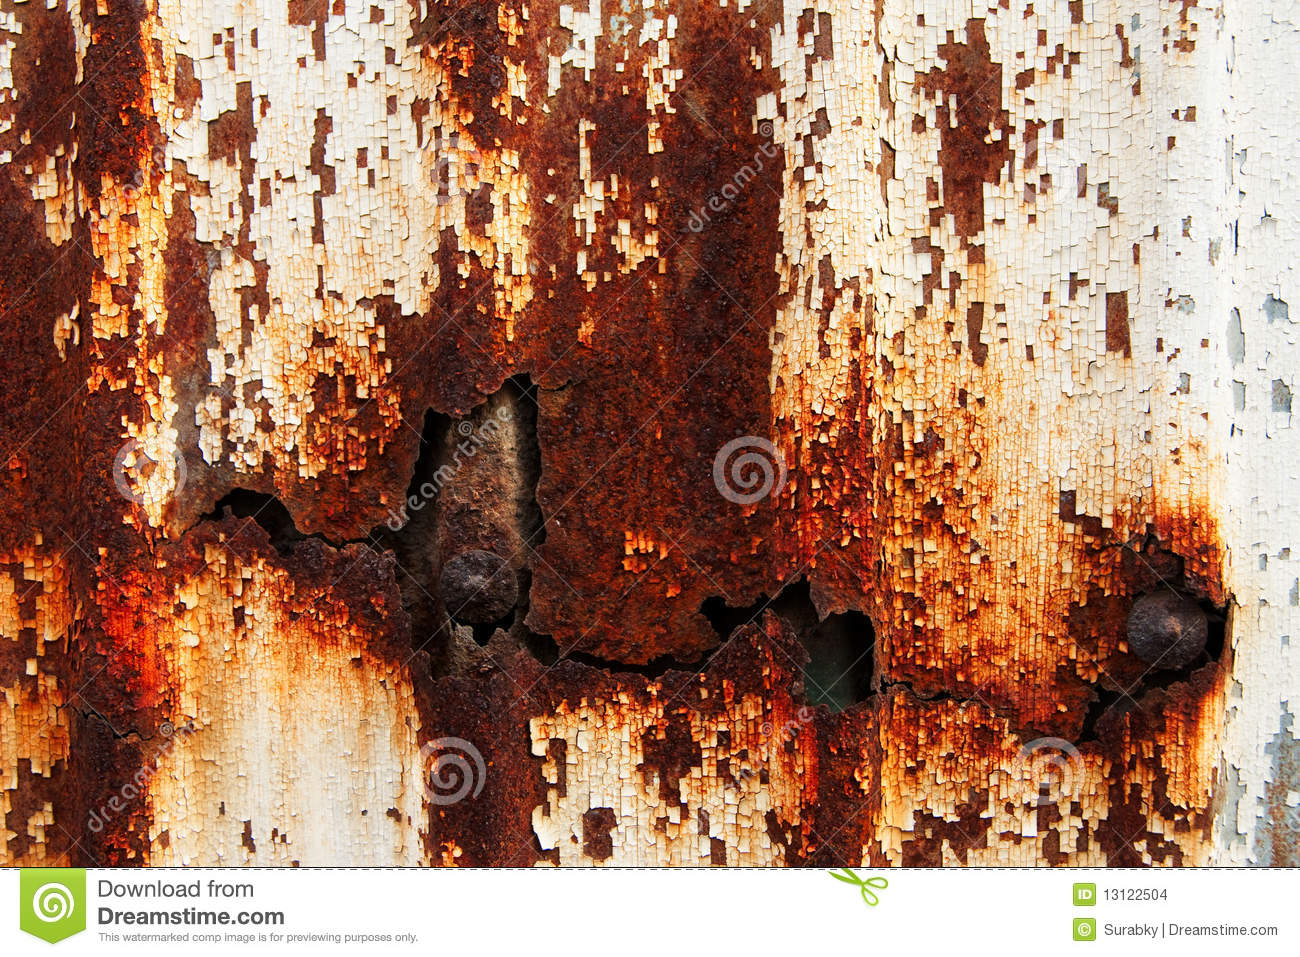rust: (383, 308, 794, 641), (11, 176, 156, 865), (426, 15, 770, 260), (1093, 541, 1236, 738)
